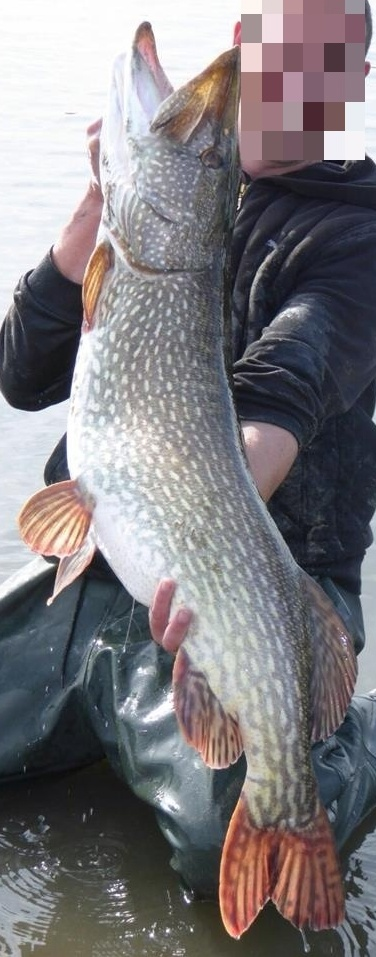Esox lucius: (20, 20, 356, 937)
